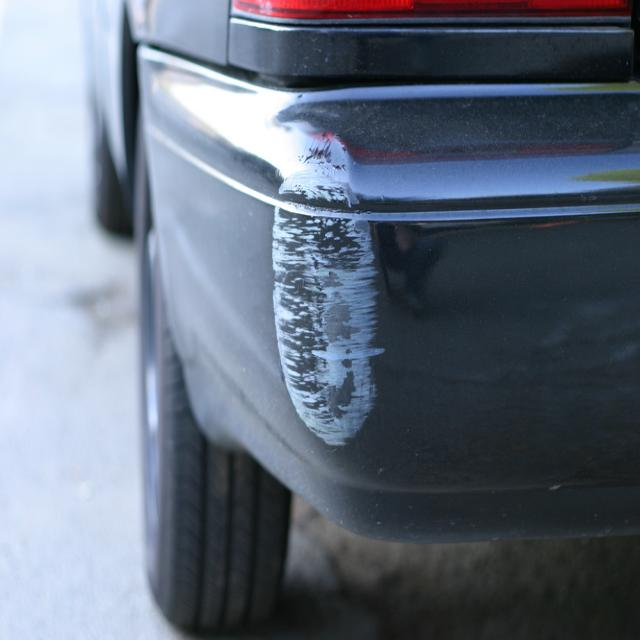scratch: (270, 131, 385, 448)
